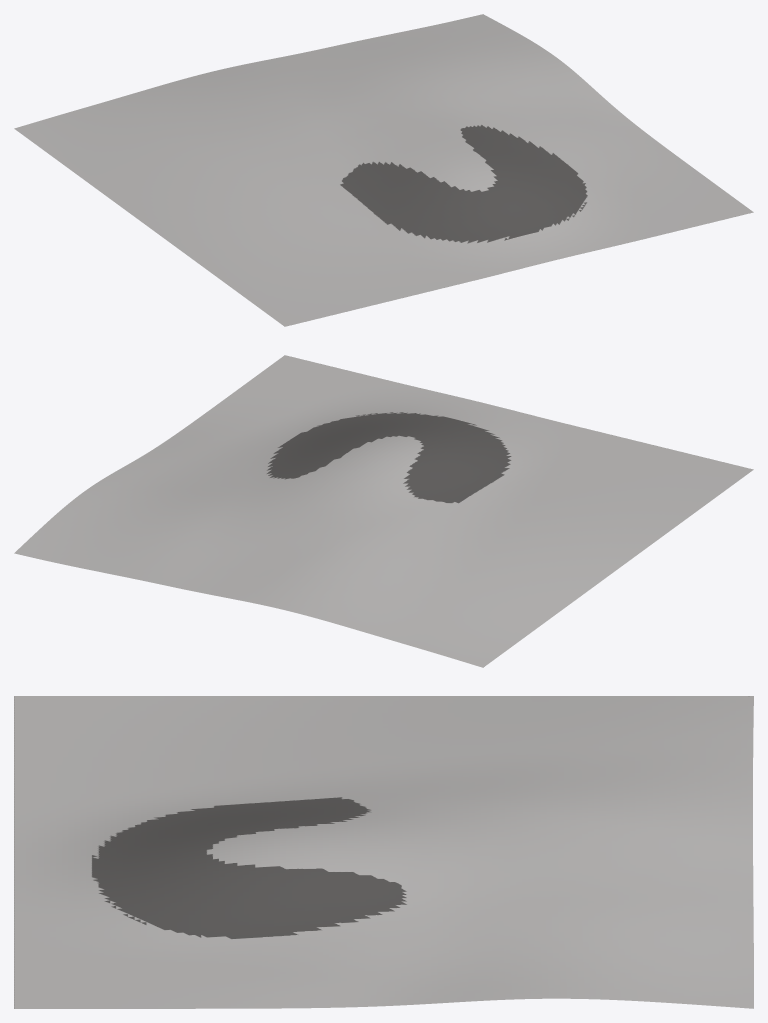
File: Terrain4  - 200M 1.fbx
3 renders of one model, top to bottom at view 1: azimuth 30°, elevation 25°; view 2: azimuth 150°, elevation 25°; view 3: azimuth 270°, elevation 25°, orthographic. The views are drawn at different scales.
Visible parts, largest first — view 1: Plane; view 2: Plane; view 3: Plane.
Part boxes in pixels (bbox=[...]): Plane: bbox=[14, 14, 753, 326]; Plane: bbox=[14, 355, 753, 667]; Plane: bbox=[14, 696, 753, 1008].
Size of the model in its own units: 36591 by 1703 by 36432.
Materials: 1 (1 with a texture image).
